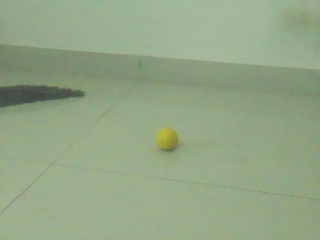ball: (156, 128, 178, 150)
